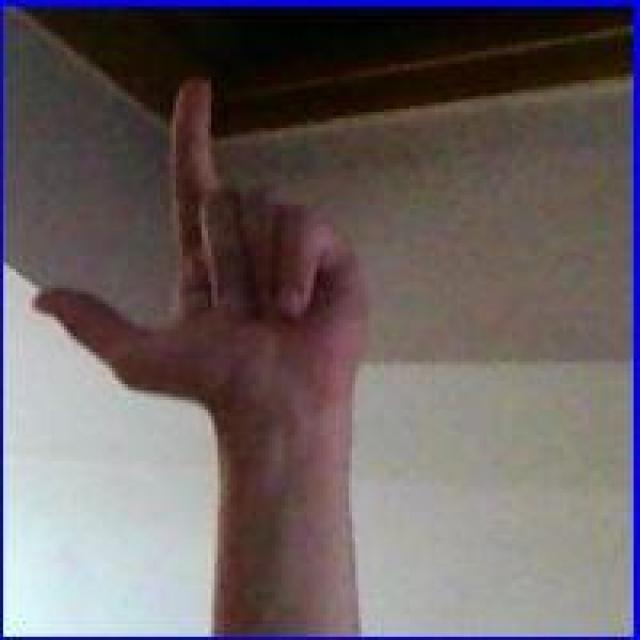L: (27, 69, 370, 427)
